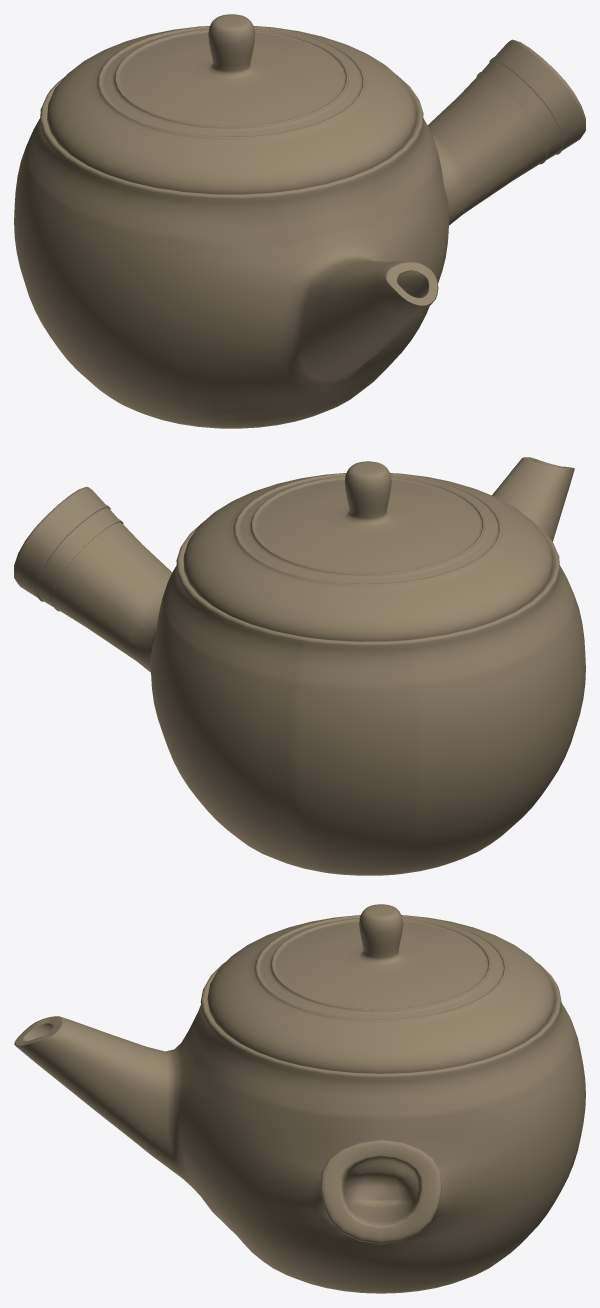
Rendered from RealTeaPot.fbx.
The picture shows the model from 3 angles, top to bottom: view 1: azimuth 30°, elevation 25°; view 2: azimuth 150°, elevation 25°; view 3: azimuth 270°, elevation 25°; orthographic projection. The views are drawn at different scales.
Visible parts, largest first — view 1: tea_pot3, tea_potlid; view 2: tea_pot3, tea_potlid; view 3: tea_pot3, tea_potlid.
Part boxes in pixels (x1,y1,x2,y2): tea_pot3: (14,39,585,428); tea_potlid: (47,14,416,194); tea_pot3: (14,457,585,875); tea_potlid: (183,461,552,641); tea_pot3: (14,962,585,1293); tea_potlid: (207,904,554,1073).
Size of the model in its own units: 231 by 159 by 234.
